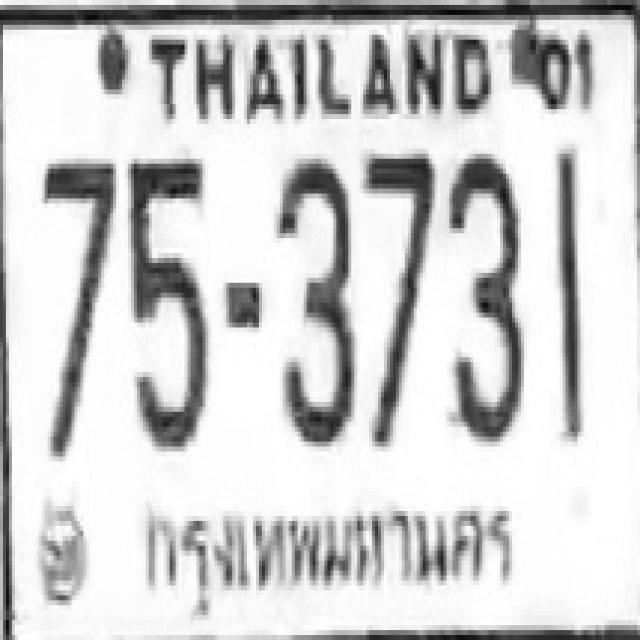1: (554, 146, 580, 439)
3: (275, 154, 353, 442), (446, 148, 521, 436)
5: (126, 151, 207, 449)
7: (40, 154, 115, 456), (362, 149, 433, 441), (362, 146, 433, 360)
BKK: (131, 486, 537, 624)
